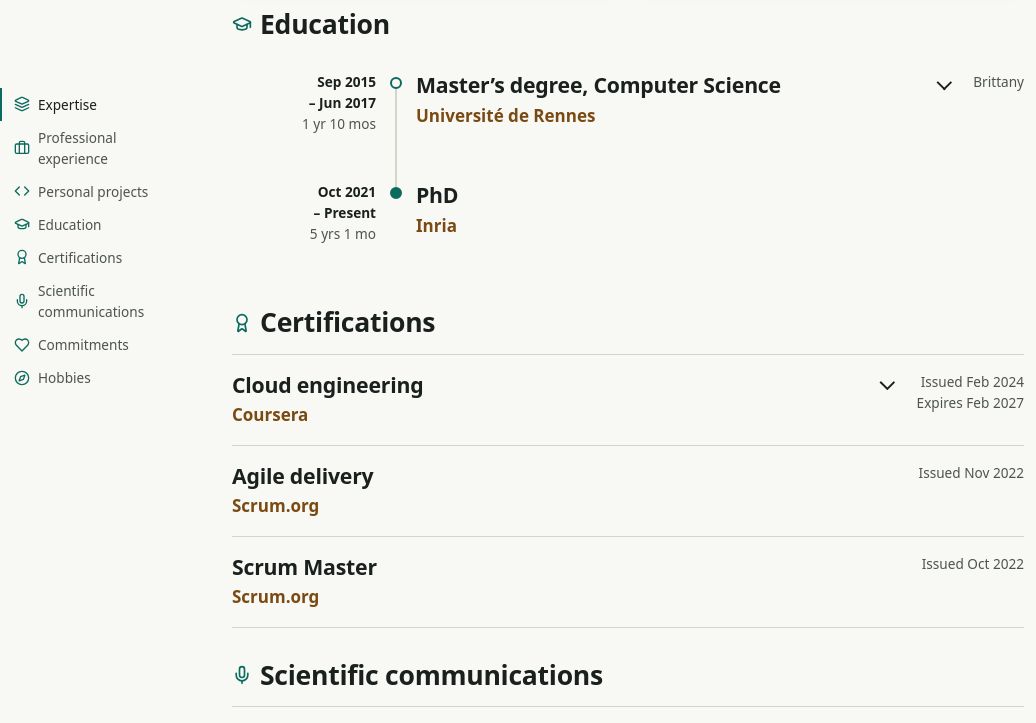
Test: ResumePage › shows a certification part of a specialization inside it, not as a tile of its own
(page scrolled)
Expected: the element "Cloud Practitioner" is not shown
Click the button "Cloud engineering" at (328, 384), box x1=232 y1=371 x2=893 y2=398
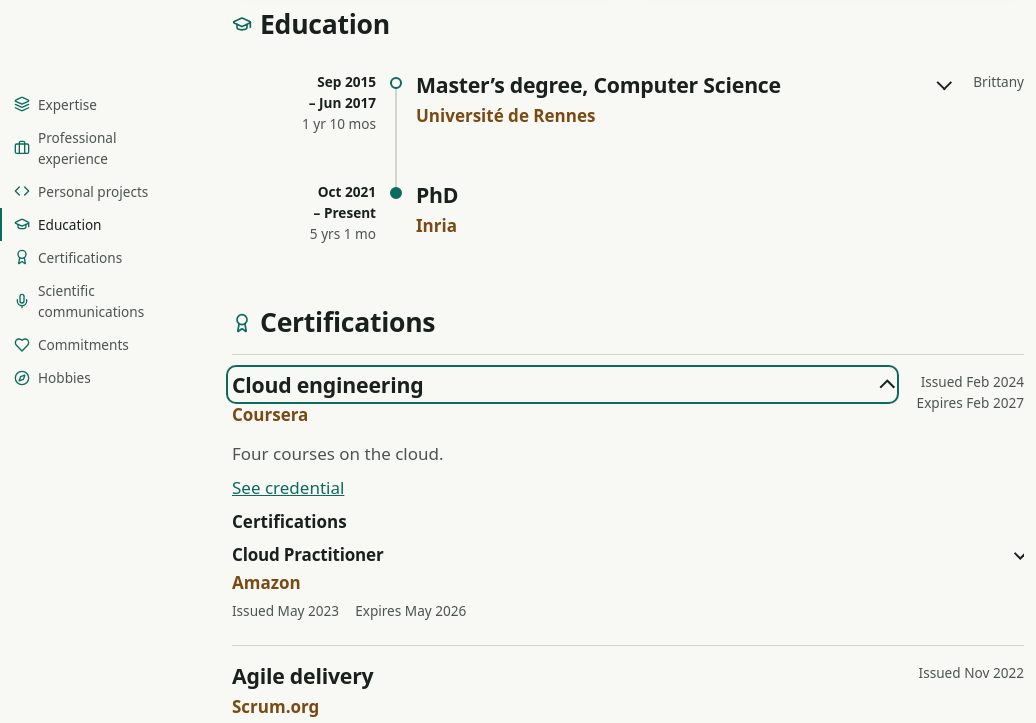
Now the heading "Cloud Practitioner" is shown, box x1=232 y1=544 x2=1024 y2=566
